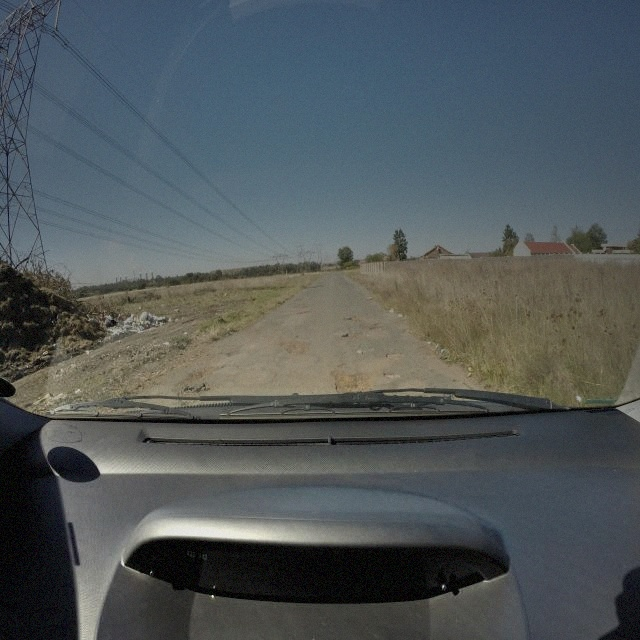pothole: (330, 366, 374, 397), (284, 340, 311, 356), (341, 331, 368, 340), (387, 351, 405, 361), (382, 371, 400, 380), (347, 314, 364, 322), (370, 325, 382, 331), (300, 310, 311, 316)
